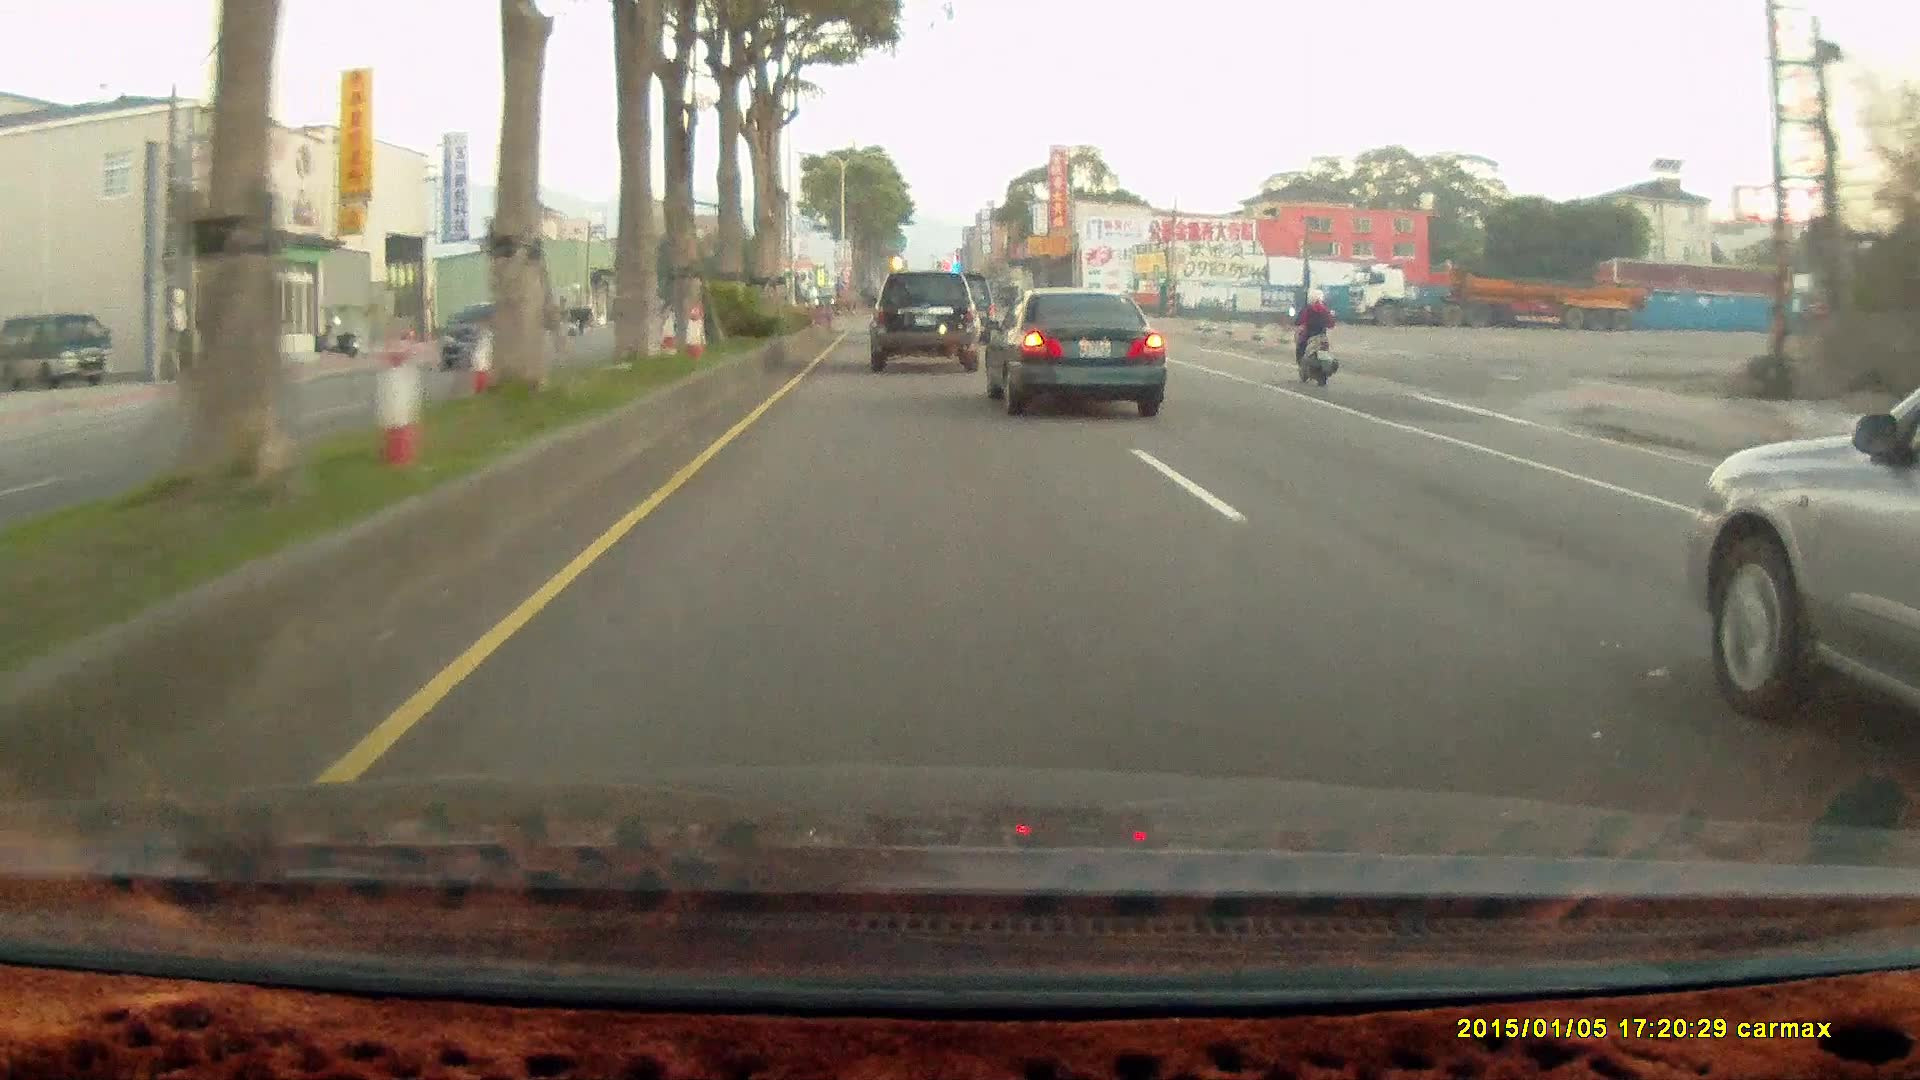pedestrian: (564, 305, 589, 335)
rider: (1280, 280, 1347, 395), (1288, 283, 1338, 384)
vehicle: (1690, 378, 1920, 737), (981, 288, 1165, 417), (986, 287, 1168, 416), (1350, 258, 1645, 328), (867, 266, 983, 373), (865, 267, 977, 368), (2, 308, 113, 386), (5, 311, 116, 389), (438, 299, 548, 373)
